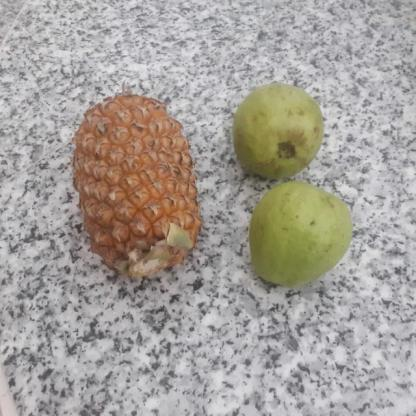guava: (250, 184, 356, 286), (233, 85, 328, 178)
pineapple: (73, 95, 201, 277)
